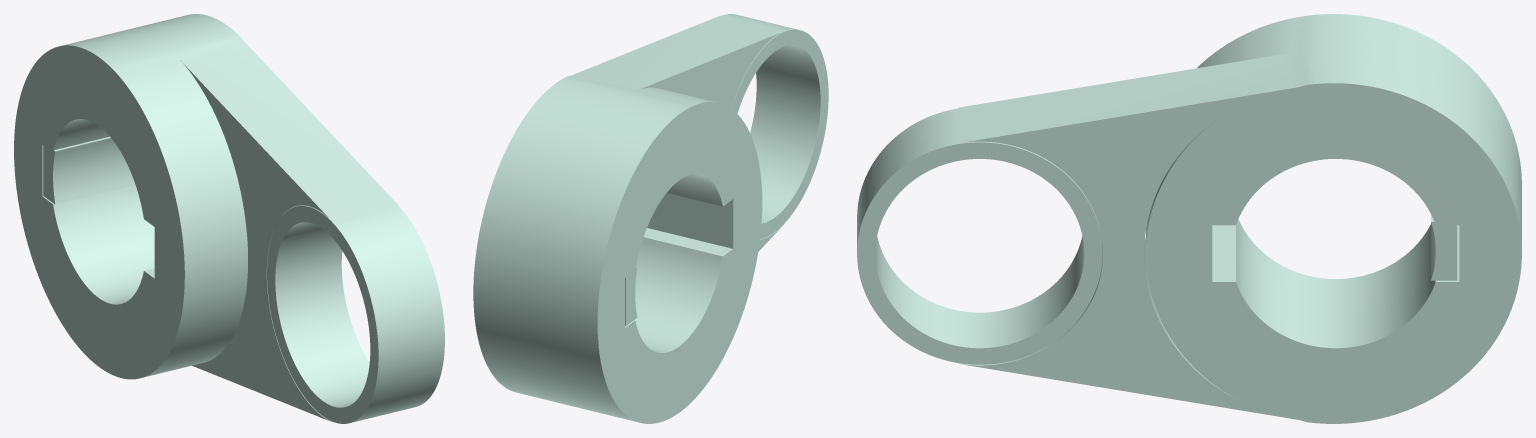
3 views of the same model, side by side, from view 1: azimuth 30°, elevation 25°; view 2: azimuth 150°, elevation 25°; view 3: azimuth 270°, elevation 25° (orthographic). The views are drawn at different scales.
Visible parts, largest first — view 1: Renderer Node; view 2: Renderer Node; view 3: Renderer Node.
Boxes of the visible parts, <box> form: Renderer Node: <box>14,14,444,423</box>; Renderer Node: <box>473,14,828,423</box>; Renderer Node: <box>857,14,1521,423</box>.
Size of the model in its own units: 0.2578 by 0.5921 by 1.05.
